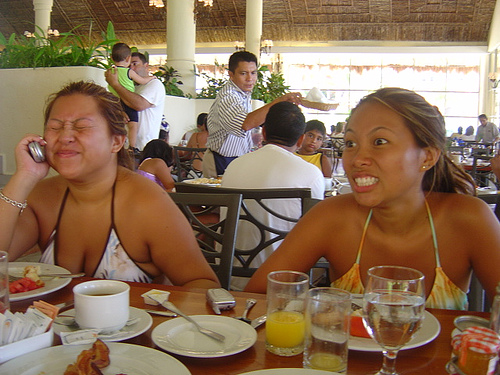without_mask: (343, 97, 439, 207), (44, 92, 125, 182), (228, 58, 258, 92), (301, 122, 325, 154), (128, 53, 150, 81), (478, 113, 489, 127)
